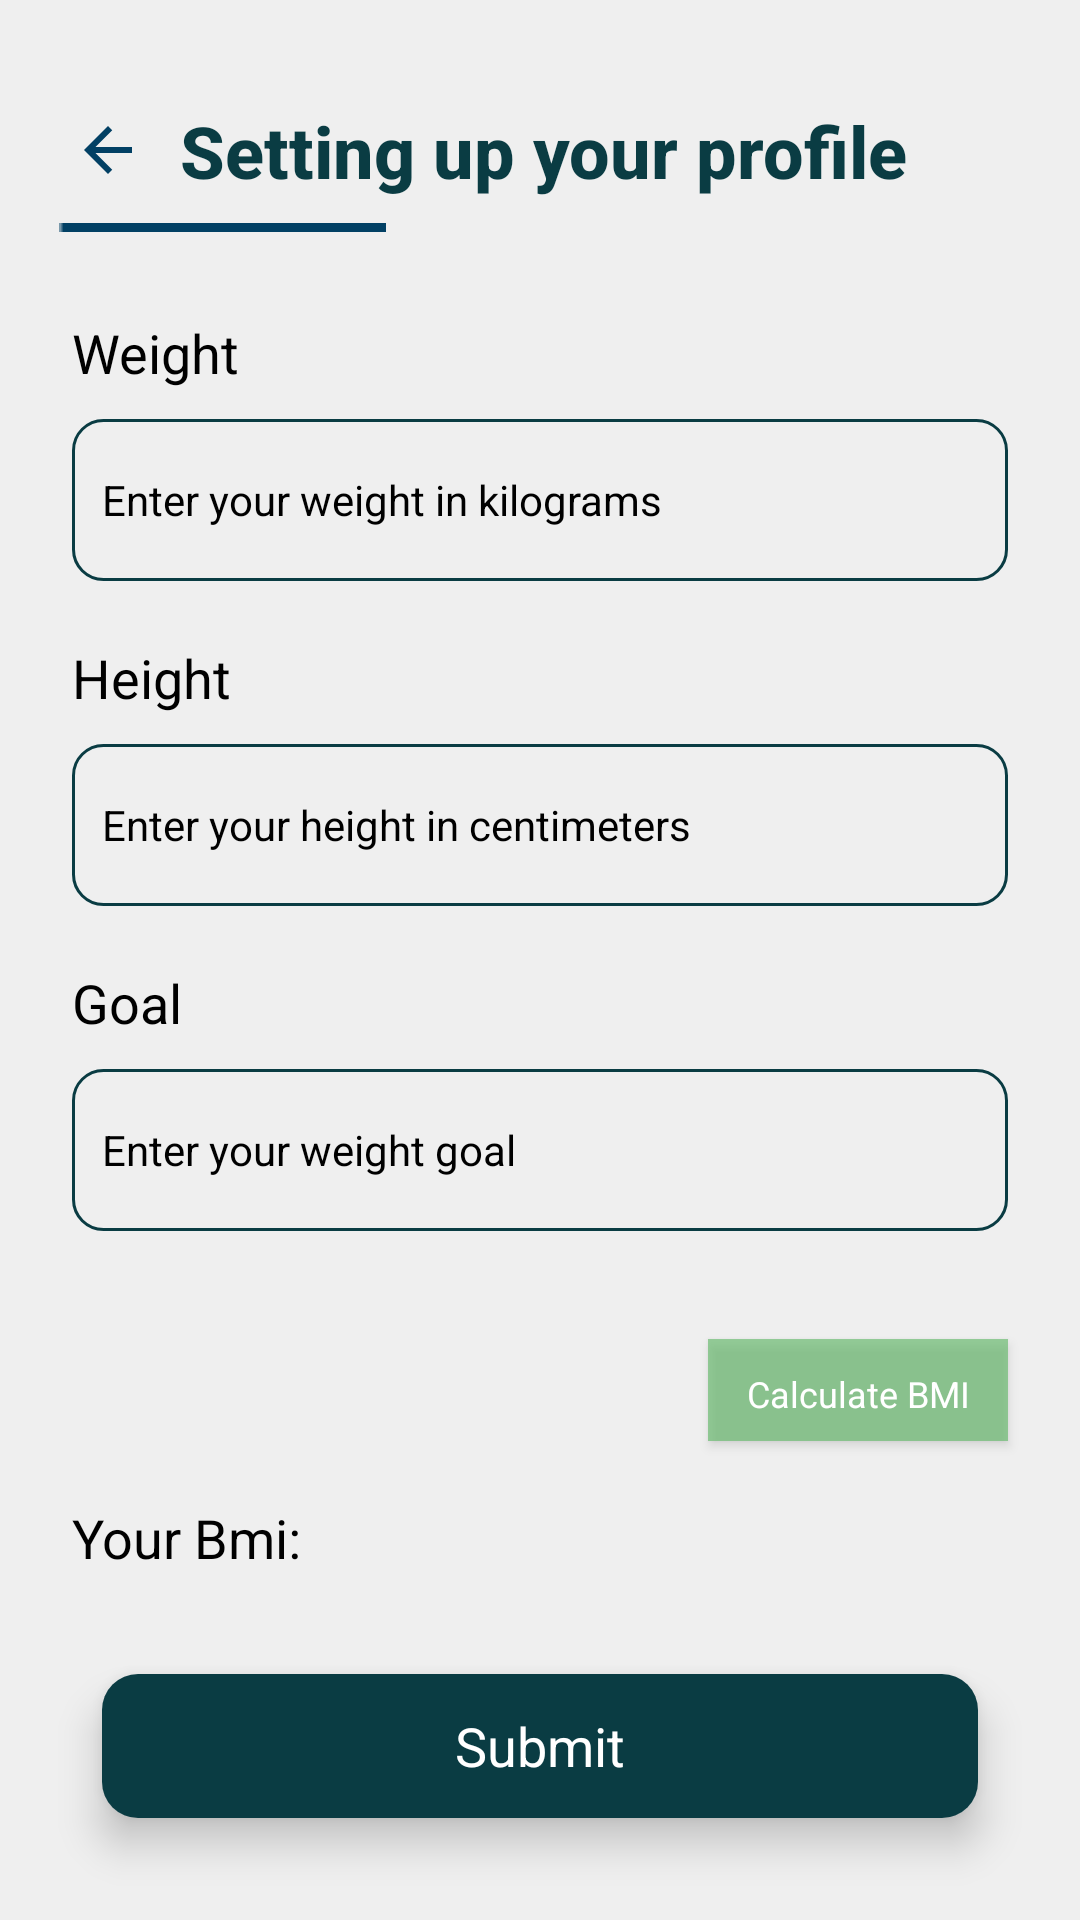

Icons on this 1080px×1920px Android screen, each with the point to tap as (x=x, y=y):
back: (x=108, y=150)
